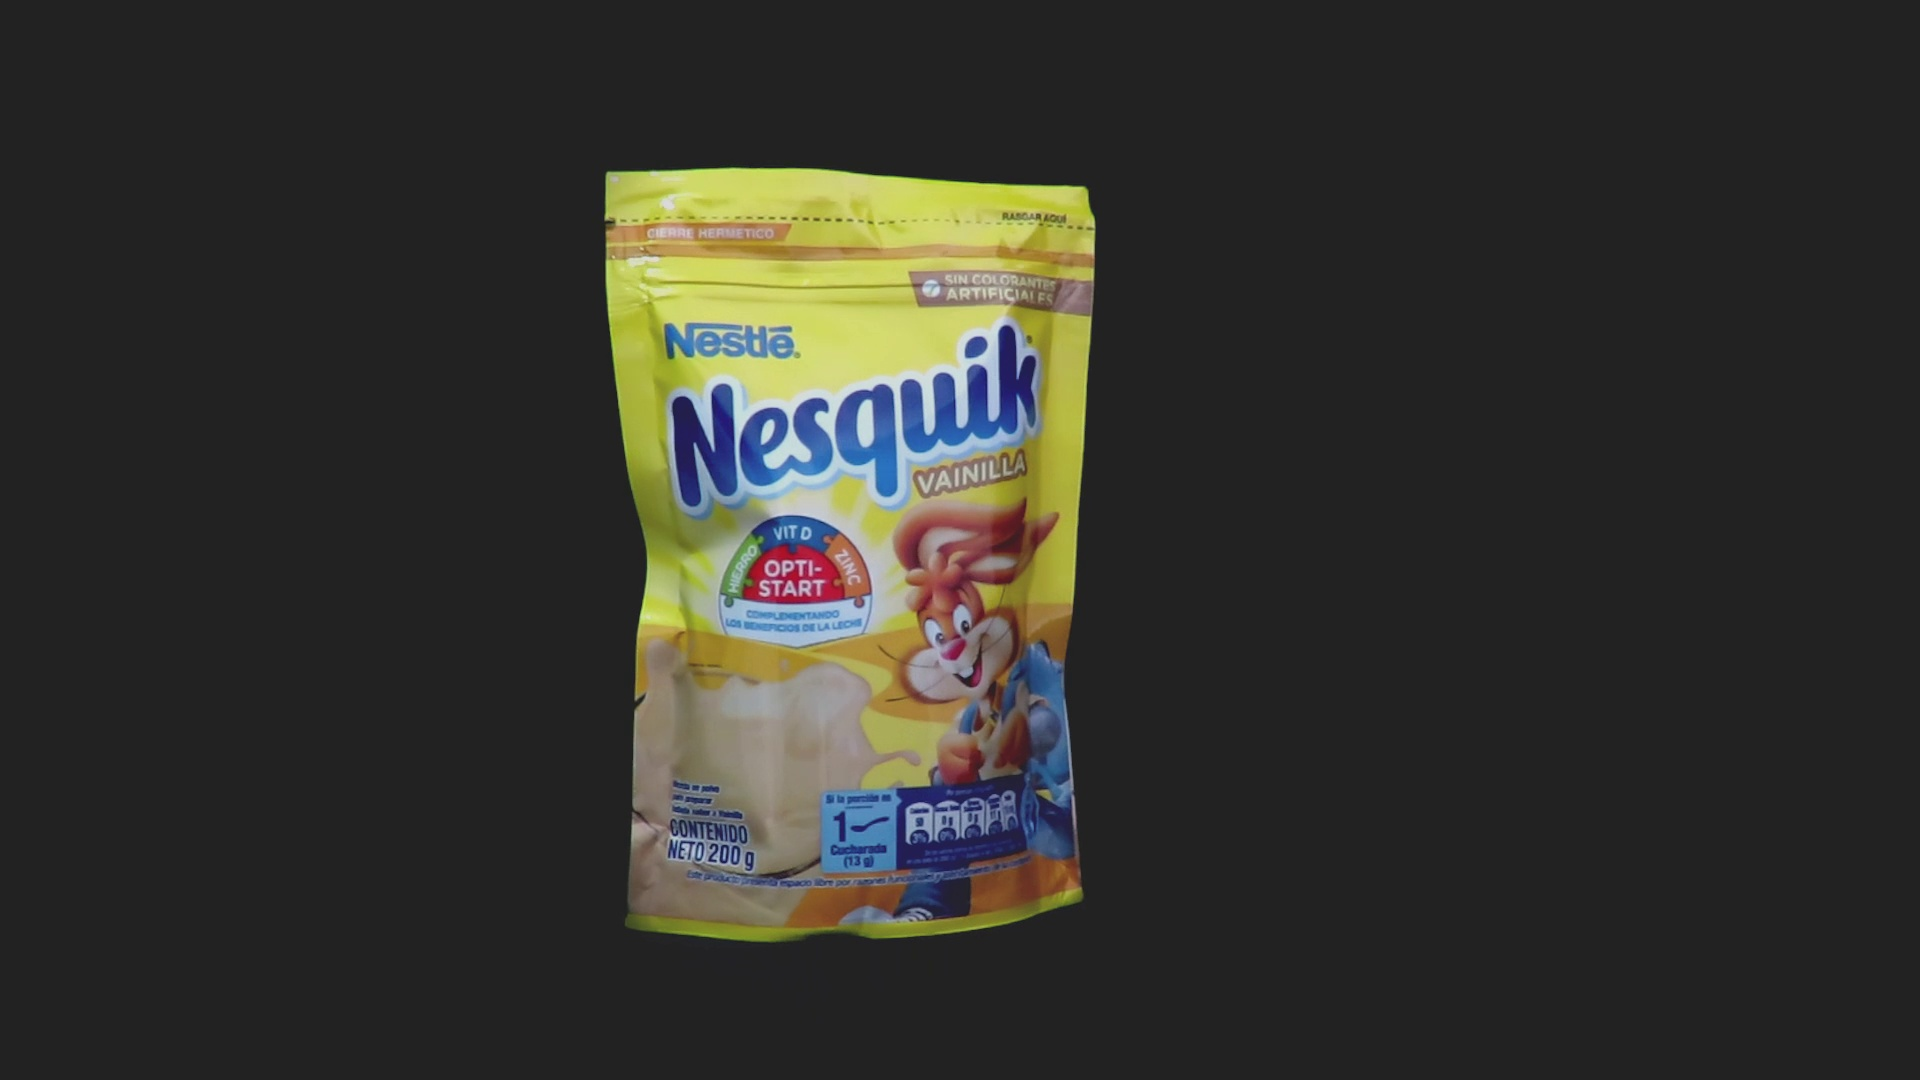COL0170306DYP20000: (599, 162, 1102, 949)
